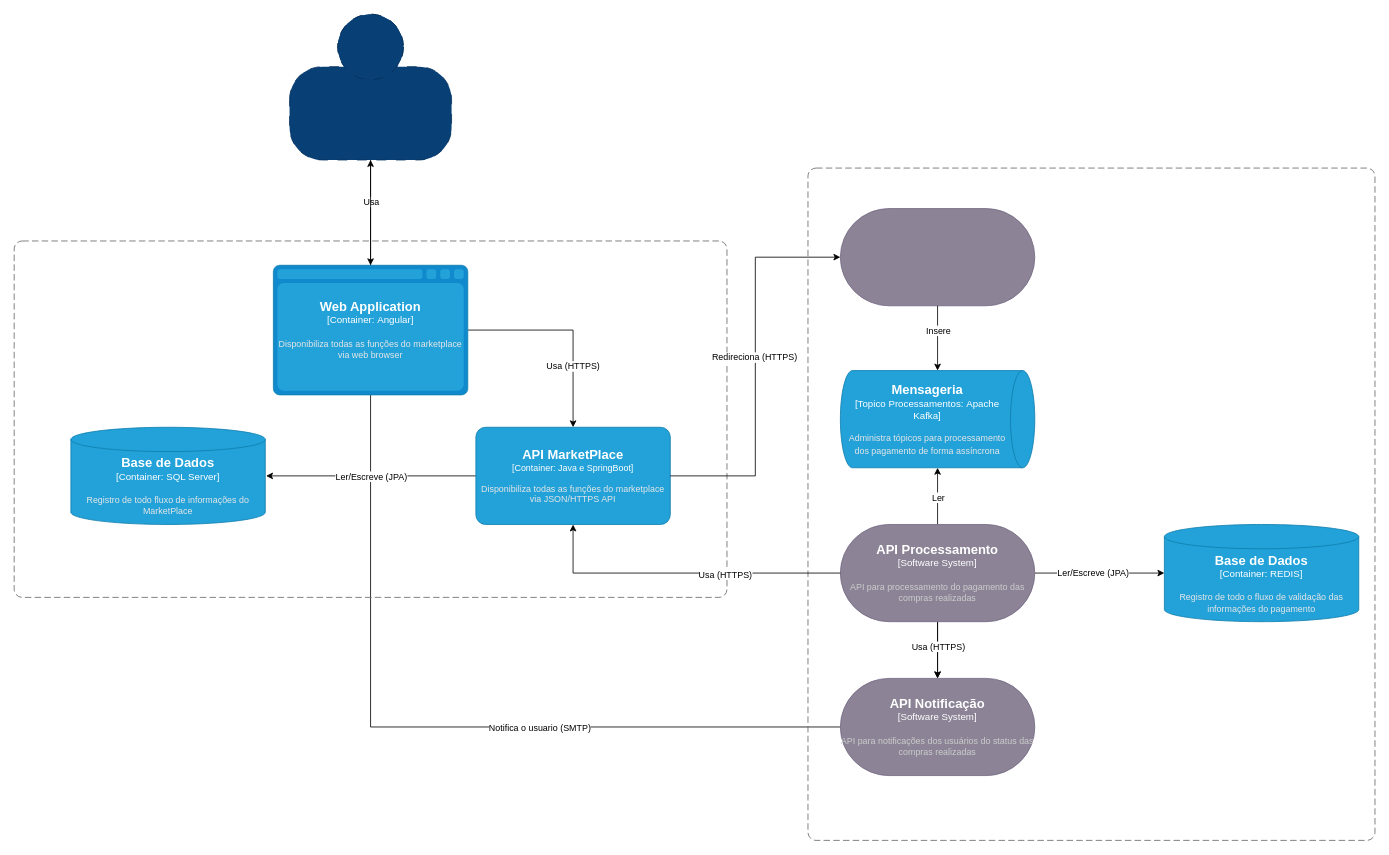
Image size: 1389x855. Some labels were removed from this diagram. Here are the shapes that lost their labels. From the top down, the box of each, then its label:
(289, 13, 452, 160): Cliente [Person] Um cliente de um marketplace
(840, 208, 1035, 306): API Checkout [Software System] API de checkout para pagamentos
(13, 240, 727, 597): Marketplace System [Software System]
(807, 167, 1375, 840): External Systems [Software System]
